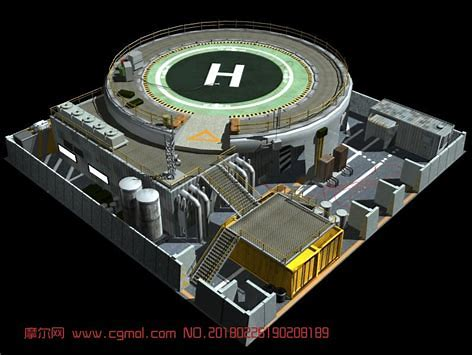H: (204, 63, 244, 86)
